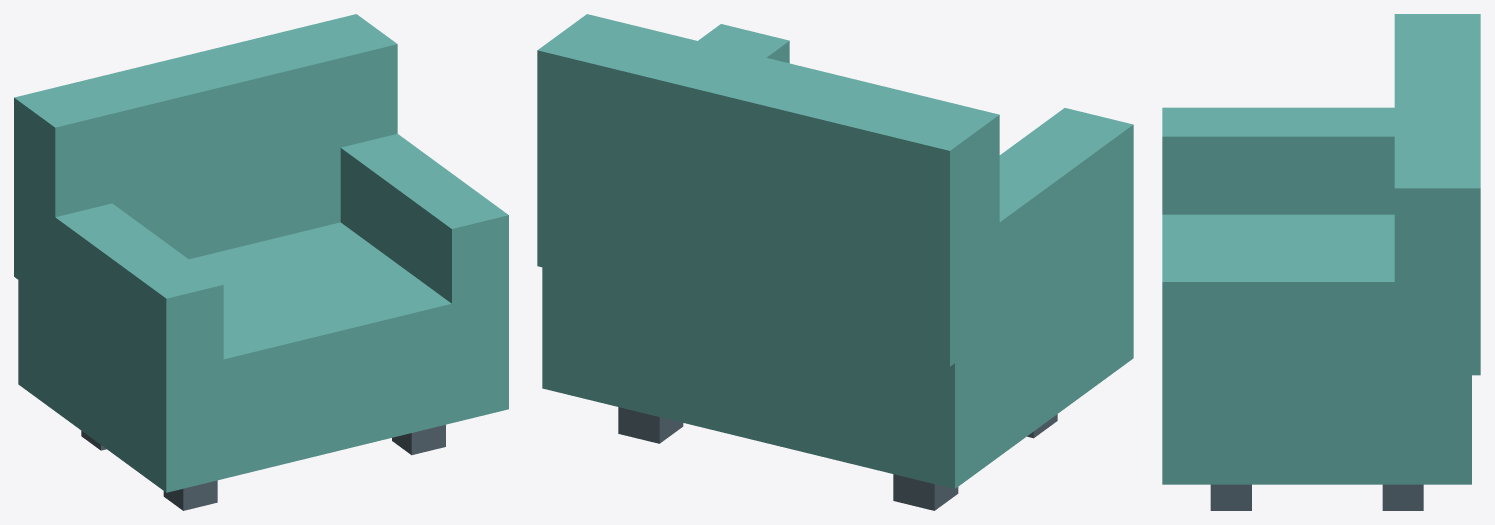
File: voxel-city-districts-armchair-c7eef6e9__24893.glb
The picture shows the model from 3 angles, left to right: view 1: azimuth 30°, elevation 25°; view 2: azimuth 150°, elevation 25°; view 3: azimuth 270°, elevation 25°; orthographic projection. The views are drawn at different scales.
Visible parts, largest first — view 1: armchair-accent, armchair-dark; view 2: armchair-accent, armchair-dark; view 3: armchair-accent, armchair-dark.
Boxes of the visible parts, left/top/right/bottom form: armchair-accent: left=14, top=14, right=508, bottom=492; armchair-dark: left=81, top=424, right=445, bottom=510; armchair-accent: left=537, top=14, right=1133, bottom=488; armchair-dark: left=618, top=407, right=1057, bottom=510; armchair-accent: left=1162, top=14, right=1480, bottom=484; armchair-dark: left=1210, top=484, right=1423, bottom=510.
Size of the model in its own units: 1.2 by 1.1 by 0.925.
